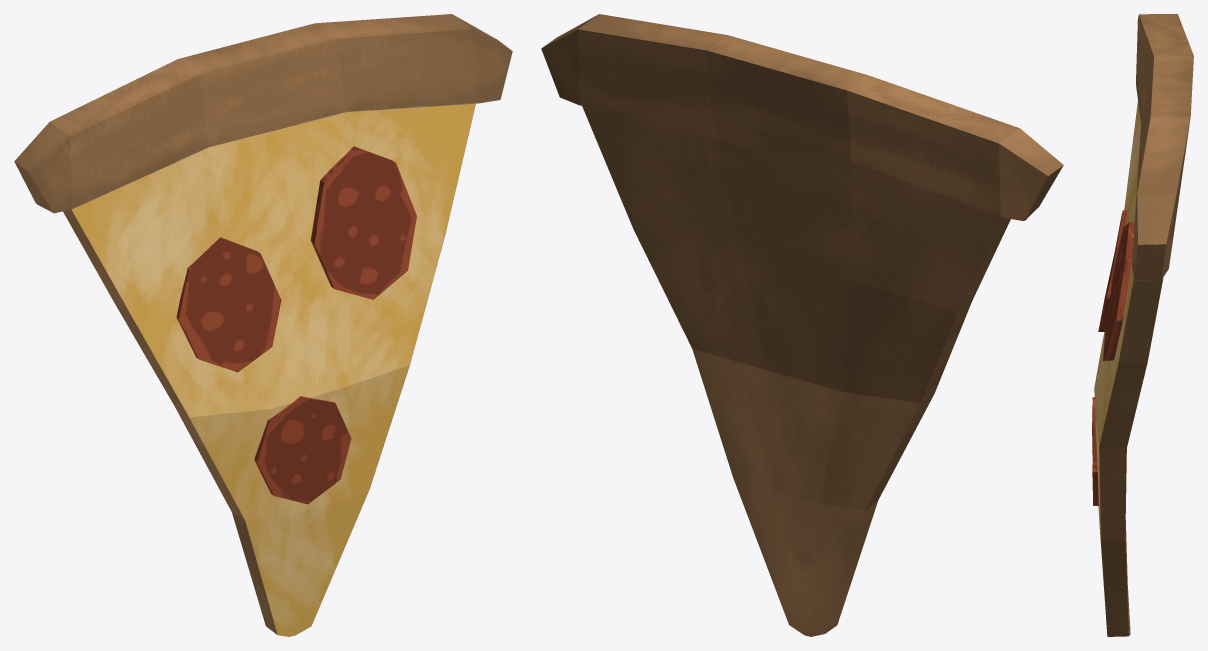
The model's file is Pizza_main.fbx.
3 renders of one model, left to right at view 1: azimuth 30°, elevation 25°; view 2: azimuth 150°, elevation 25°; view 3: azimuth 270°, elevation 25°, orthographic. The views are drawn at different scales.
Parts seen in each view (by area): view 1: Pizza_Low; view 2: Pizza_Low; view 3: Pizza_Low.
Part boxes in pixels (x1,y1,x2,y2): Pizza_Low: (14,14,512,636); Pizza_Low: (541,14,1063,636); Pizza_Low: (1092,14,1193,636).
Size of the model in its own units: 40.66 by 45.43 by 7.66.
1 material, 1 textured.
